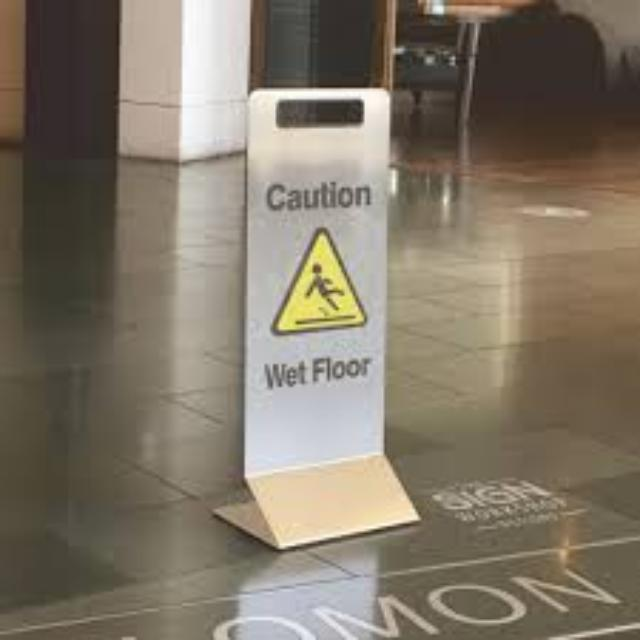slippery_floor: (216, 91, 418, 546)
